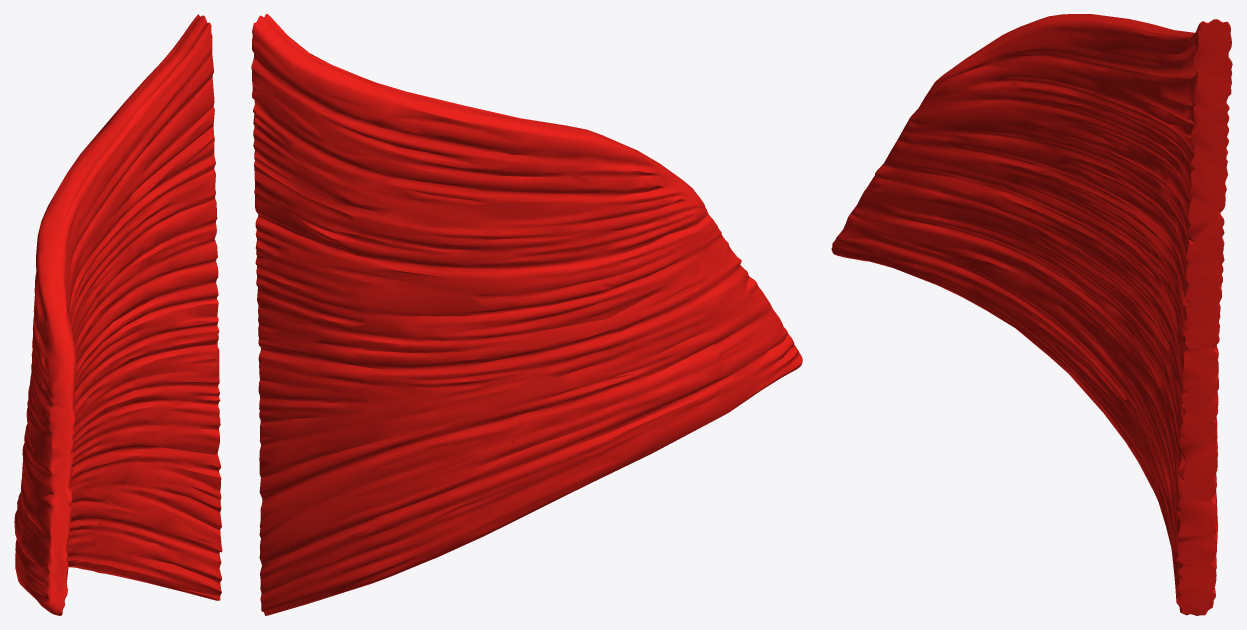
The model's file is Right superior pharyngeal constrictor.fbx.
The picture shows the model from 3 angles, left to right: view 1: azimuth 30°, elevation 25°; view 2: azimuth 150°, elevation 25°; view 3: azimuth 270°, elevation 25°; orthographic projection. The views are drawn at different scales.
Visible parts, largest first — view 1: Right superior pharyngeal constrictor; view 2: Right superior pharyngeal constrictor; view 3: Right superior pharyngeal constrictor.
Boxes of the visible parts, x1,y1,x2,y2 form: Right superior pharyngeal constrictor: (14, 14, 222, 615); Right superior pharyngeal constrictor: (251, 14, 802, 615); Right superior pharyngeal constrictor: (831, 14, 1232, 615).
Bounding box in the file's own units: 4.39 × 7.14 × 4.35.
